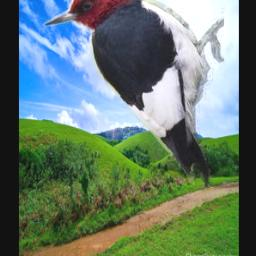Woodpecker: (35, 0, 225, 187)
